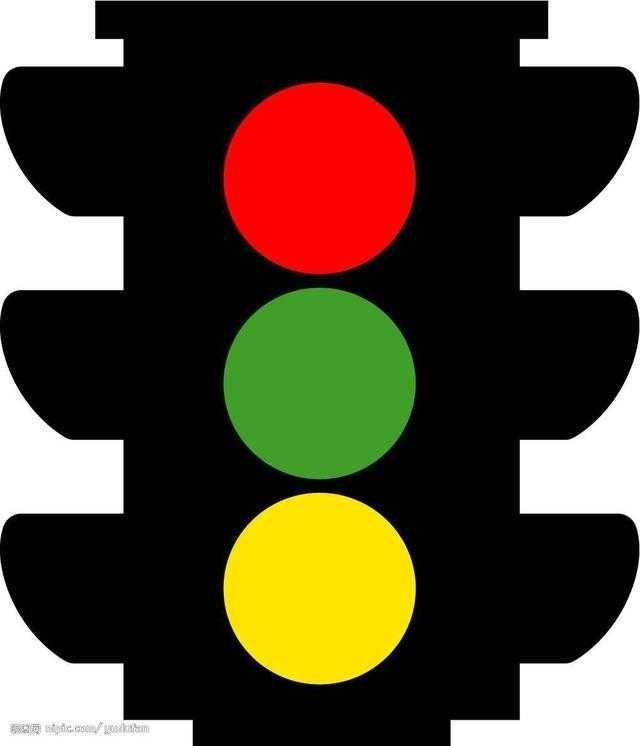5: (215, 57, 432, 280)
9: (208, 488, 438, 697)
red traffic light: (212, 277, 436, 488)
